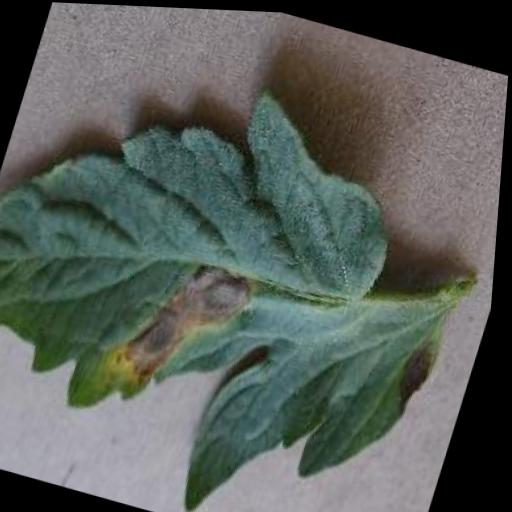Early Blight: (0, 20, 510, 512)
